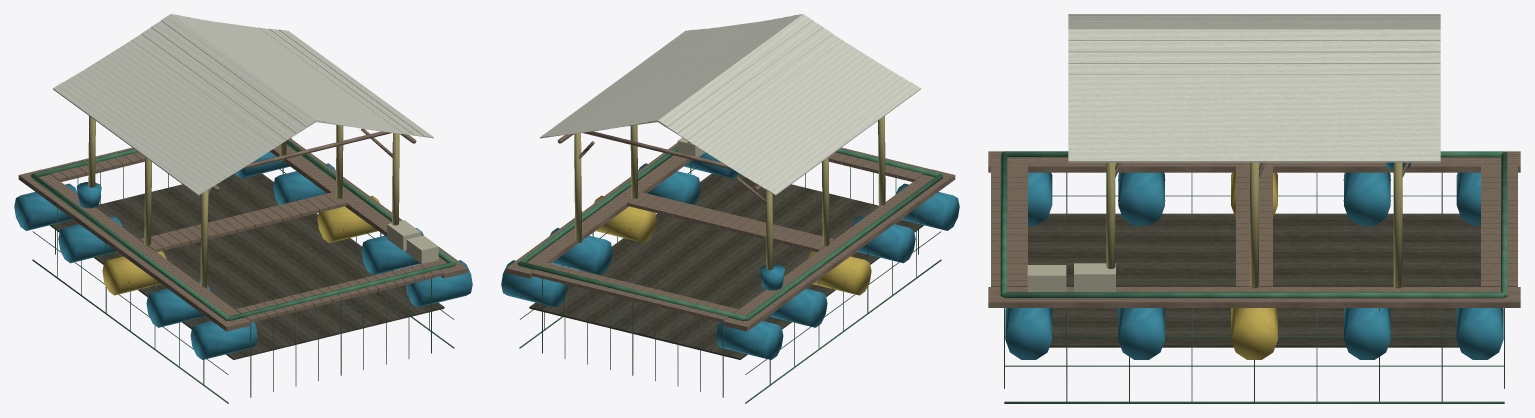
File: bung-raft-1-white.glb
3 views of the same model, side by side, from view 1: azimuth 30°, elevation 25°; view 2: azimuth 150°, elevation 25°; view 3: azimuth 270°, elevation 25° (orthographic). The views are drawn at different scales.
Visible parts, largest first — view 1: bung-raft-1-white; view 2: bung-raft-1-white; view 3: bung-raft-1-white.
Part boxes in pixels (x1,y1,x2,y2): bung-raft-1-white: [14, 14, 472, 403]; bung-raft-1-white: [501, 14, 959, 403]; bung-raft-1-white: [988, 14, 1520, 403].
Size of the model in its own units: 4.84 by 4.17 by 6.6.
1 material, 1 textured.
